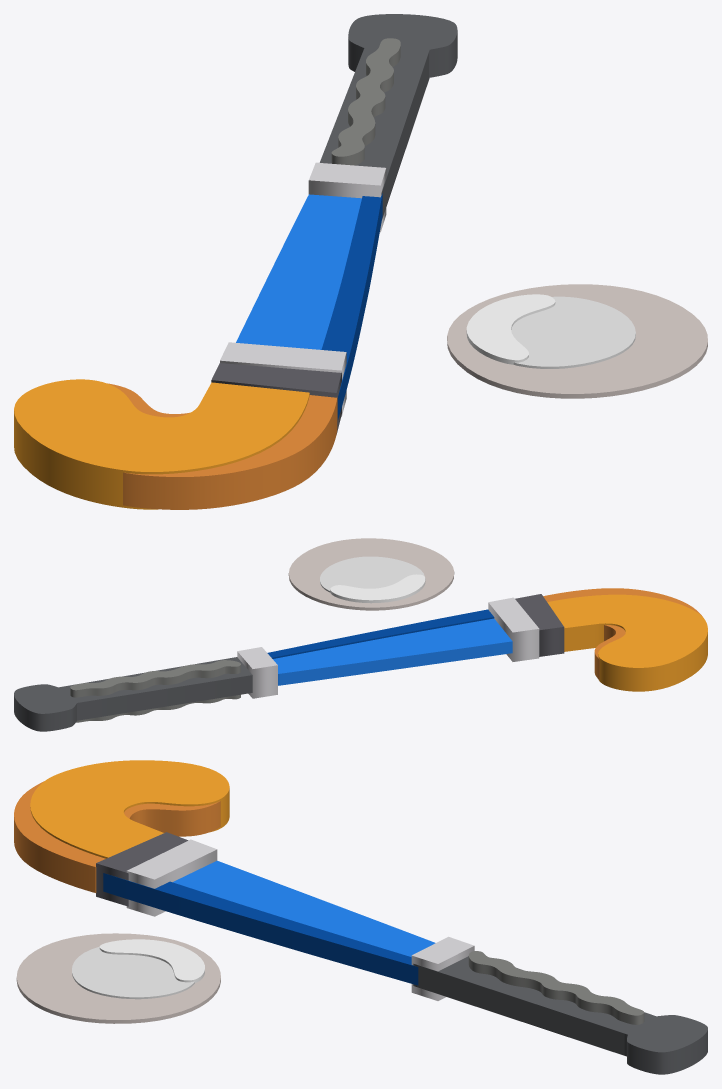
The model's file is emoji_u1f3d1.glb.
The picture shows the model from 3 angles, top to bottom: view 1: azimuth 30°, elevation 25°; view 2: azimuth 150°, elevation 25°; view 3: azimuth 270°, elevation 25°; orthographic projection. The views are drawn at different scales.
Visible parts, largest first — view 1: emoji_u1f3d1; view 2: emoji_u1f3d1; view 3: emoji_u1f3d1.
Boxes of the visible parts, x1,y1,x2,y2 form: emoji_u1f3d1: (14, 14, 707, 509); emoji_u1f3d1: (14, 538, 707, 731); emoji_u1f3d1: (14, 760, 707, 1074).
Bounding box in the file's own units: 0.0333 × 0.0022 × 0.0338.
